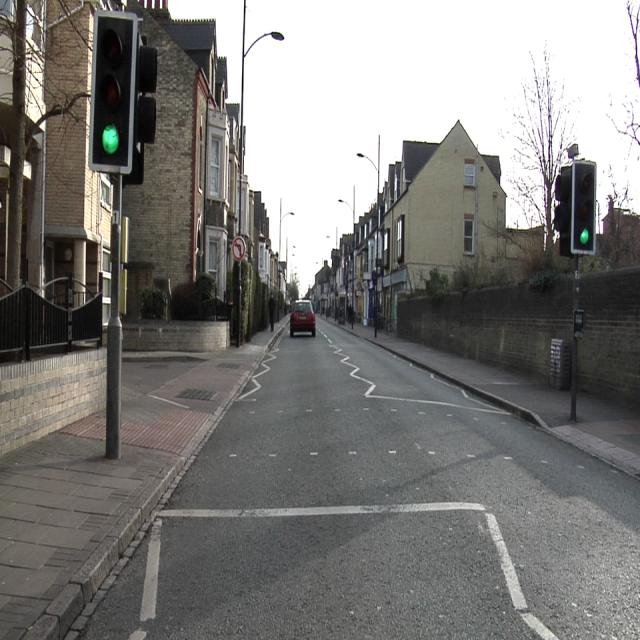Building: (310, 122, 506, 329)
Car: (290, 301, 315, 335)
Road: (68, 320, 636, 638)
Tree: (0, 0, 88, 288), (504, 37, 579, 240)
